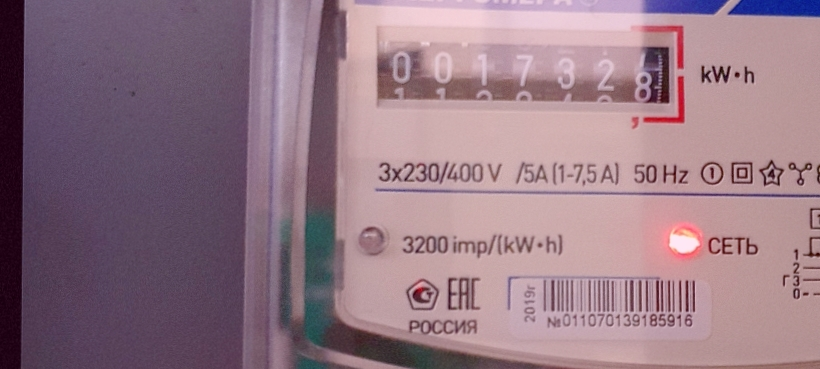0: (391, 48, 413, 85), (432, 50, 453, 84)
1: (475, 50, 490, 86)
2: (594, 57, 615, 93)
3: (554, 55, 577, 90)
7: (512, 51, 536, 88)
8: (632, 68, 652, 104)
screen: (366, 23, 689, 126)
